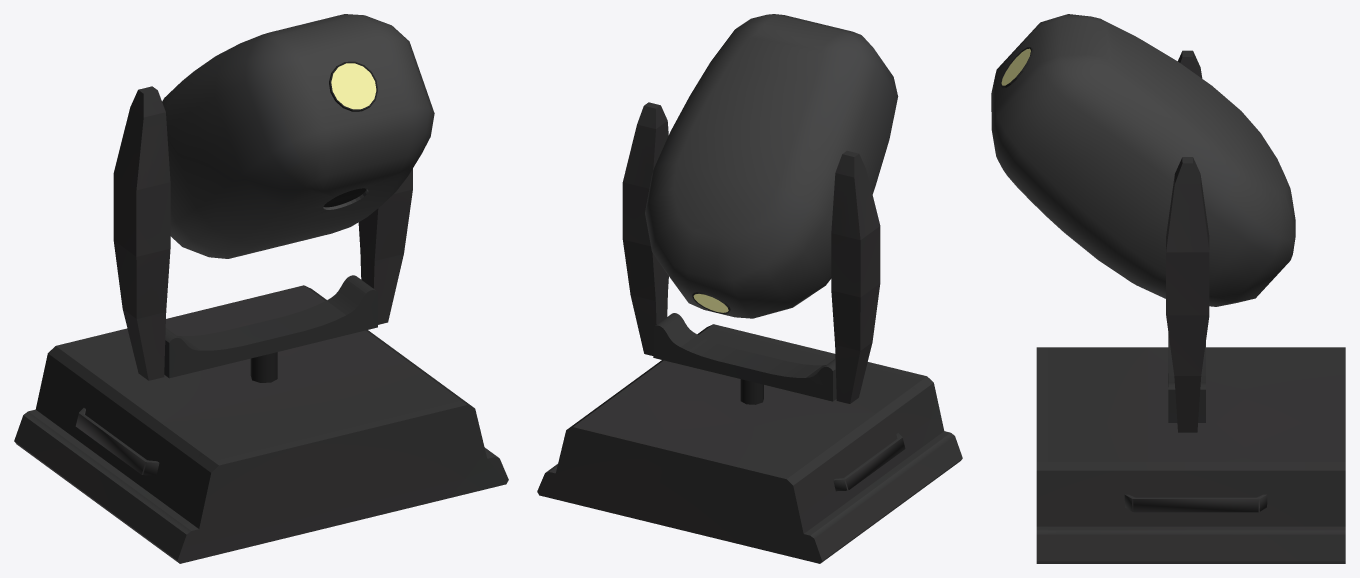
File: MK_Stage_001_light.fbx
3 views of the same model, side by side, from view 1: azimuth 30°, elevation 25°; view 2: azimuth 150°, elevation 25°; view 3: azimuth 270°, elevation 25° (orthographic). The views are drawn at different scales.
Visible parts, largest first — view 1: MK_Stage_001_light; view 2: MK_Stage_001_light; view 3: MK_Stage_001_light.
Part boxes in pixels (bbox=[...]): MK_Stage_001_light: bbox=[14, 14, 508, 563]; MK_Stage_001_light: bbox=[537, 14, 962, 563]; MK_Stage_001_light: bbox=[991, 14, 1345, 563].
Size of the model in its own units: 0.3233 by 0.3167 by 0.4457.
Materials: 2 (2 with a texture image).
